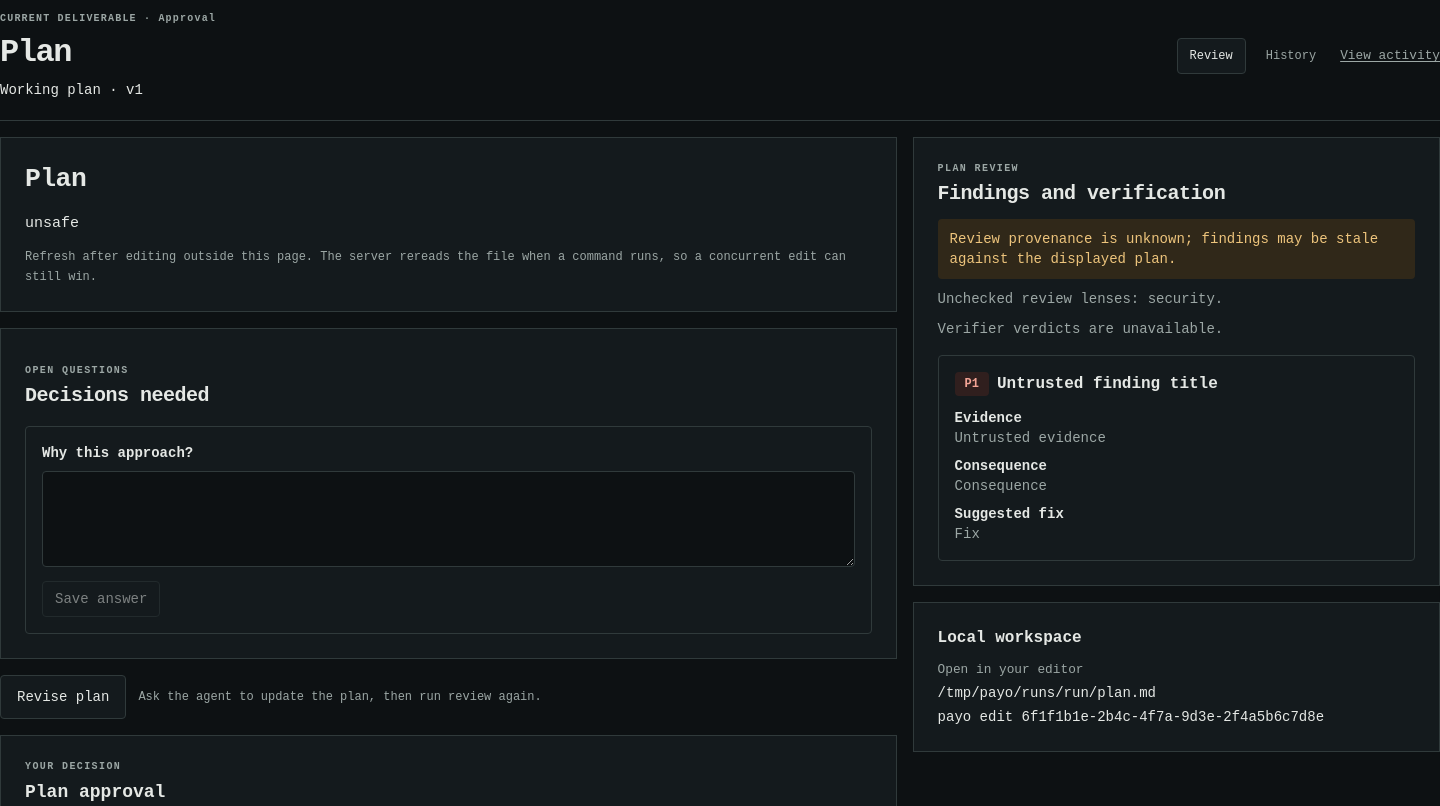
Test: keeps the prompt after a conflict and hides restore controls after approval
The image size is (1440, 806).
Later steps or results of the test are not shown.
Click the button "Revise plan" at [63, 697], box [0, 675, 126, 719]
(page scrolled)
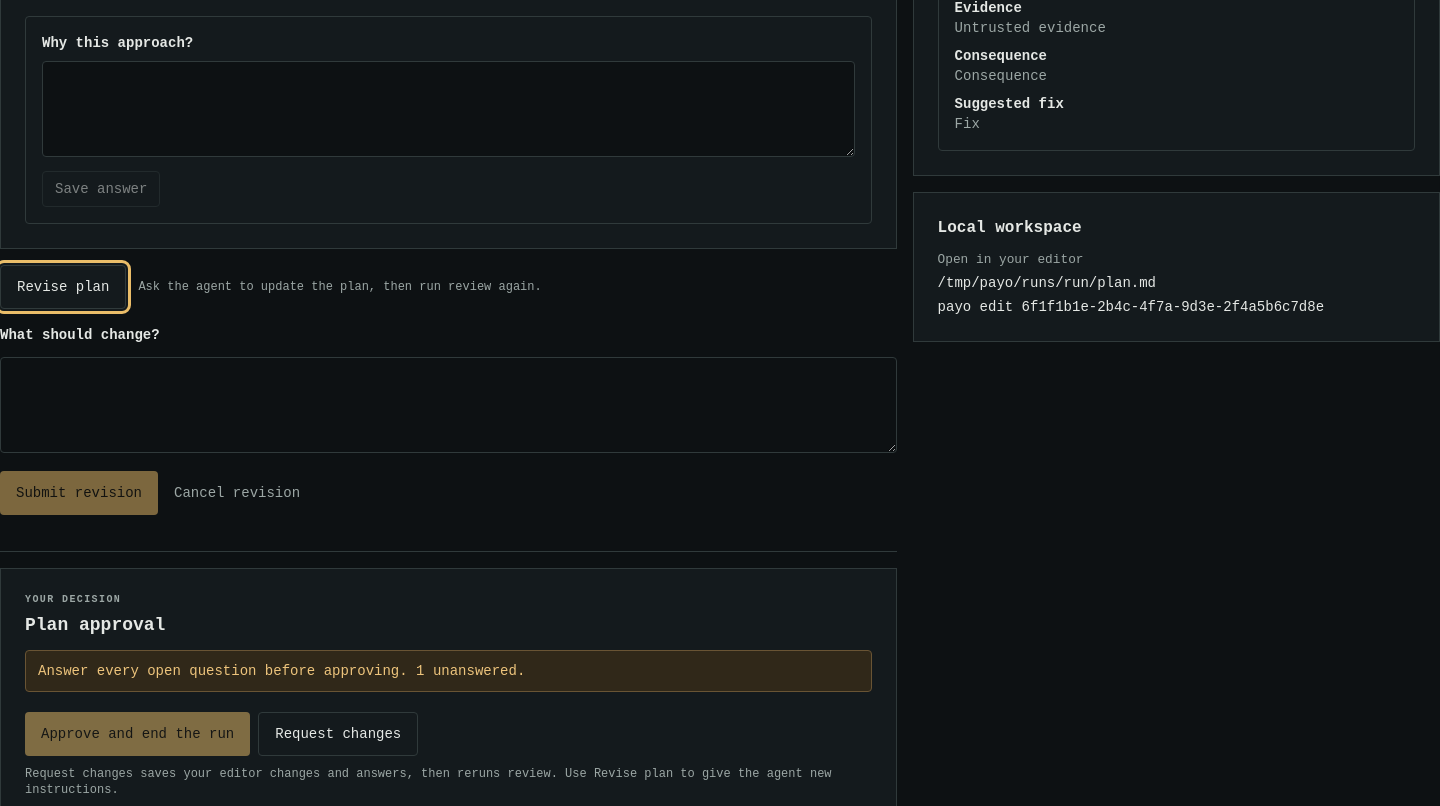
Type "Keep my draft" into the text box labelled "What should change?" at [448, 405], box [0, 357, 897, 453]
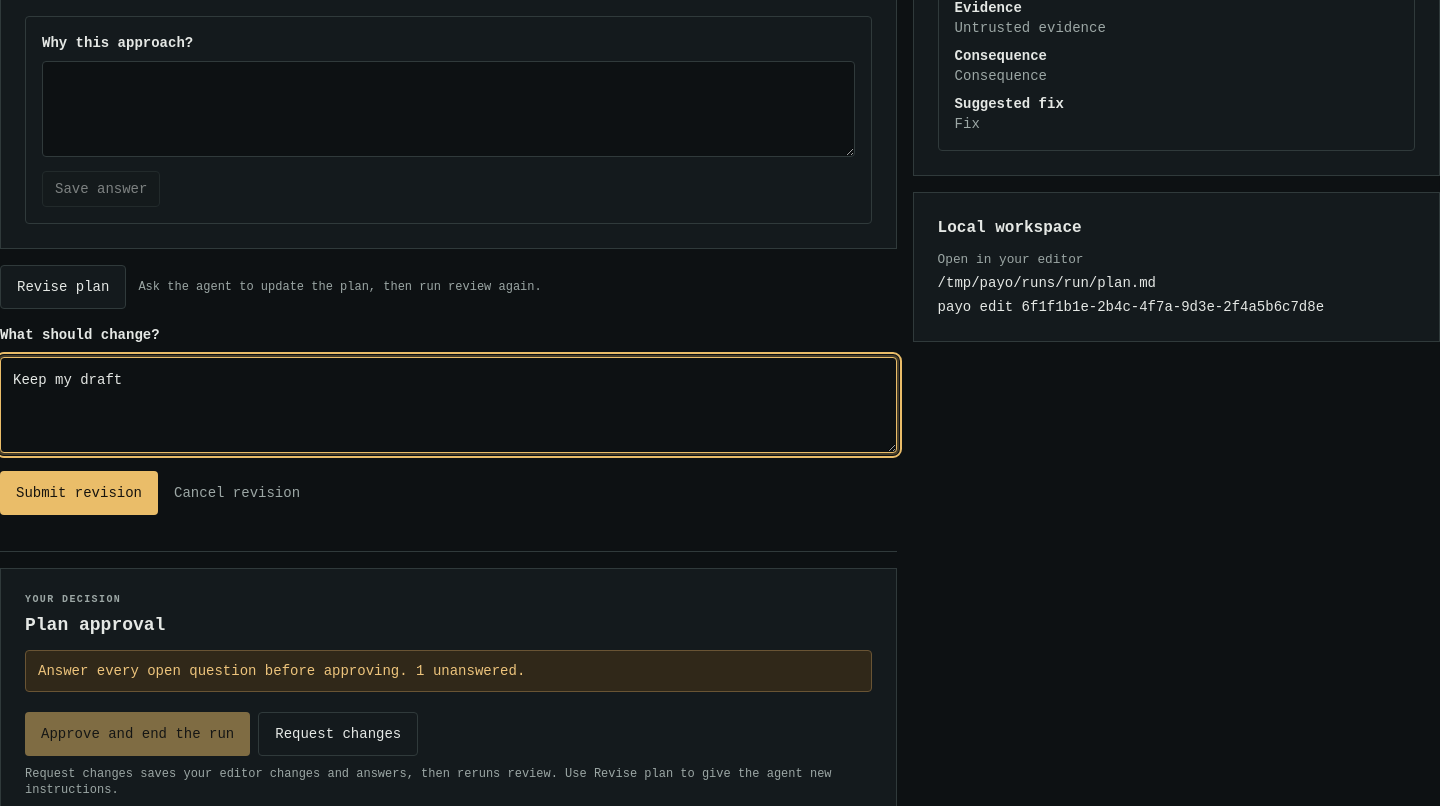
Click the button "Submit revision" at [79, 493], box [0, 471, 158, 515]
(page scrolled)
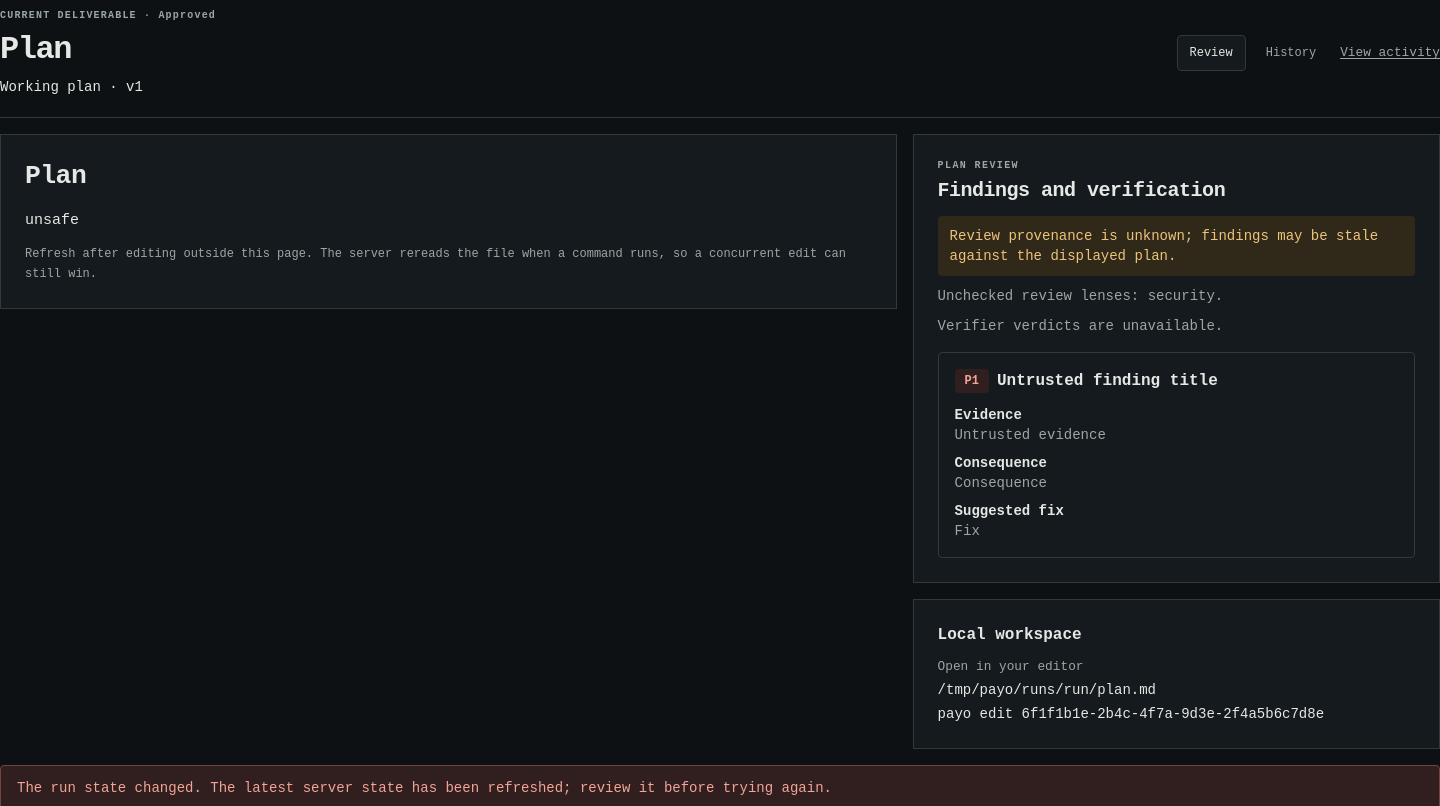
Expected: the message shows "state changed", [17, 780, 832, 796]
Expected: the label labelled "What should change?" is gone
